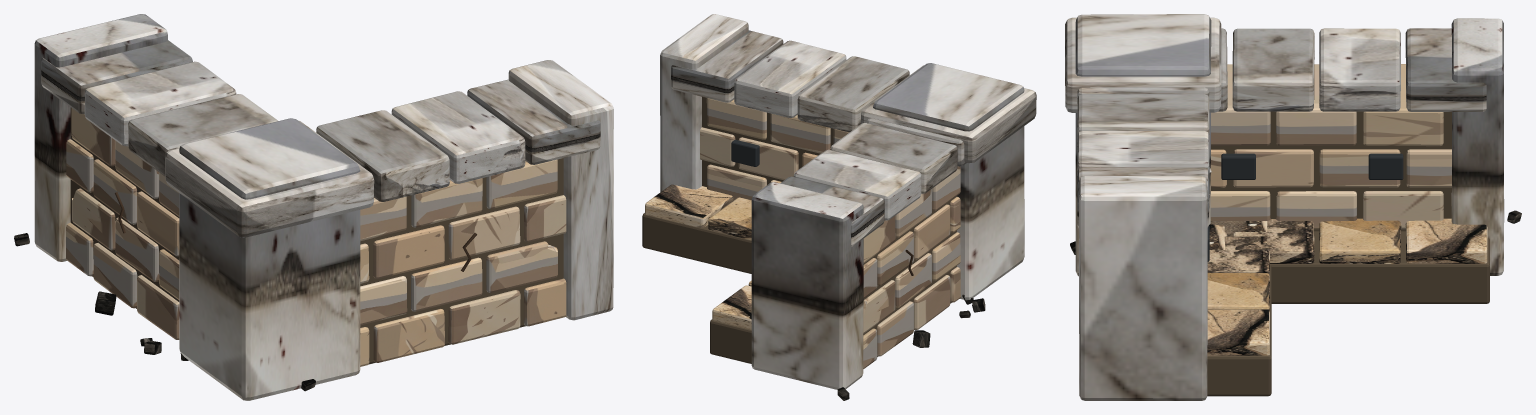
The model's file is parapet_combat_corner_inner_LOD0.glb.
3 views of the same model, side by side, from view 1: azimuth 30°, elevation 25°; view 2: azimuth 150°, elevation 25°; view 3: azimuth 270°, elevation 25° (orthographic). The views are drawn at different scales.
Visible parts, largest first — view 1: CornerBondPier, TerminalBondPier, TerminalBondPier.001, CornerCoping, XCopingStone.002, XCopingStone.001, YCopingStone.002, YCopingStone.001, XCopingStone.003, XWallCore, YCopingStone.003, XCombatAshlar.002 (+24 smaller); view 2: TerminalBondPier.001, CornerBondPier, TerminalBondPier, XCopingStone.002, XCopingStone.001, YCopingStone.002, YCopingStone.001, XFiringStepCore, XCopingStone.003, CornerCoping, XFiringStepPaver.003, YCopingStone.003 (+26 smaller); view 3: TerminalBondPier, TerminalBondPier.001, CornerBondPier, YFiringStepCore, YCopingStone.001, YCopingStone.002, XCopingStone.001, YCopingStone.003, XCopingStone.002, YWallCore, CornerCoping, YFiringStepPaver.002 (+23 smaller).
Boxes of the visible parts, bbox=[...] form: CornerBondPier: bbox=[179, 118, 360, 400]; TerminalBondPier: bbox=[508, 60, 613, 320]; TerminalBondPier.001: bbox=[34, 14, 167, 261]; CornerCoping: bbox=[165, 120, 374, 237]; XCopingStone.002: bbox=[391, 91, 525, 183]; XCopingStone.001: bbox=[316, 110, 449, 201]; YCopingStone.002: bbox=[84, 61, 236, 146]; YCopingStone.001: bbox=[128, 94, 277, 176]; XCopingStone.003: bbox=[467, 79, 600, 164]; XWallCore: bbox=[360, 158, 563, 364]; YCopingStone.003: bbox=[41, 40, 192, 113]; XCombatAshlar.002: bbox=[448, 290, 520, 344]; TerminalBondPier.001: bbox=[751, 182, 863, 389]; CornerBondPier: bbox=[873, 63, 1024, 300]; TerminalBondPier: bbox=[660, 14, 748, 191]; XCopingStone.002: bbox=[734, 40, 846, 117]; XCopingStone.001: bbox=[797, 56, 909, 132]; YCopingStone.002: bbox=[793, 149, 921, 220]; YCopingStone.001: bbox=[830, 123, 957, 193]; XFiringStepCore: bbox=[642, 213, 751, 273]; XCopingStone.003: bbox=[671, 30, 783, 102]; CornerCoping: bbox=[861, 65, 1036, 163]; XFiringStepPaver.003: bbox=[645, 184, 733, 227]; YCopingStone.003: bbox=[780, 176, 884, 246]; TerminalBondPier: bbox=[1079, 175, 1207, 400]; TerminalBondPier.001: bbox=[1451, 18, 1504, 275]; CornerBondPier: bbox=[1075, 14, 1211, 276]; YFiringStepCore: bbox=[1270, 231, 1489, 303]; YCopingStone.001: bbox=[1232, 28, 1314, 111]; YCopingStone.002: bbox=[1319, 28, 1400, 111]; XCopingStone.001: bbox=[1077, 94, 1209, 151]; YCopingStone.003: bbox=[1405, 28, 1486, 111]; XCopingStone.002: bbox=[1077, 131, 1209, 175]; YWallCore: bbox=[1211, 111, 1451, 231]; CornerCoping: bbox=[1065, 17, 1221, 112]; YFiringStepPaver.002: bbox=[1319, 218, 1401, 263].
Bounding box in the file's own units: 2.64 × 1.37 × 2.63.
Materials: 8 (4 with a texture image).
